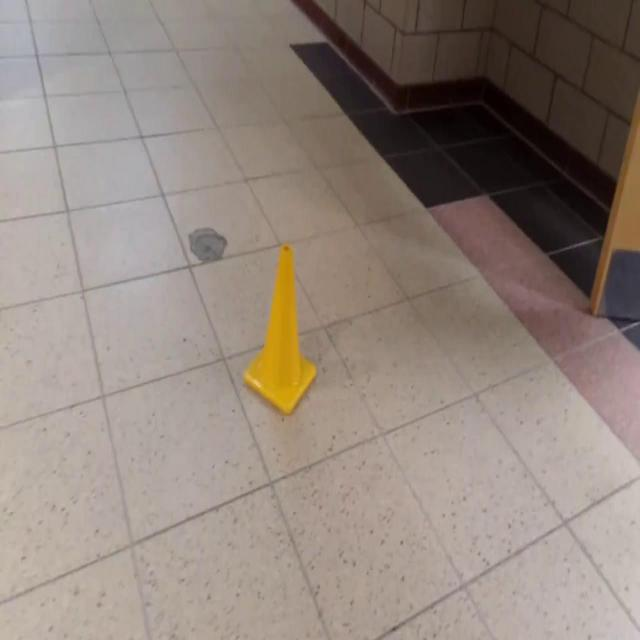frc_cone: (242, 241, 318, 414)
